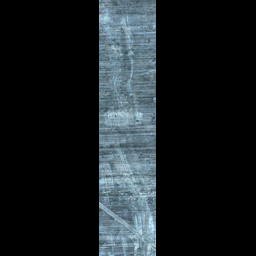d: (99, 198, 153, 254), (107, 12, 133, 126), (99, 139, 139, 197), (105, 102, 146, 129)
